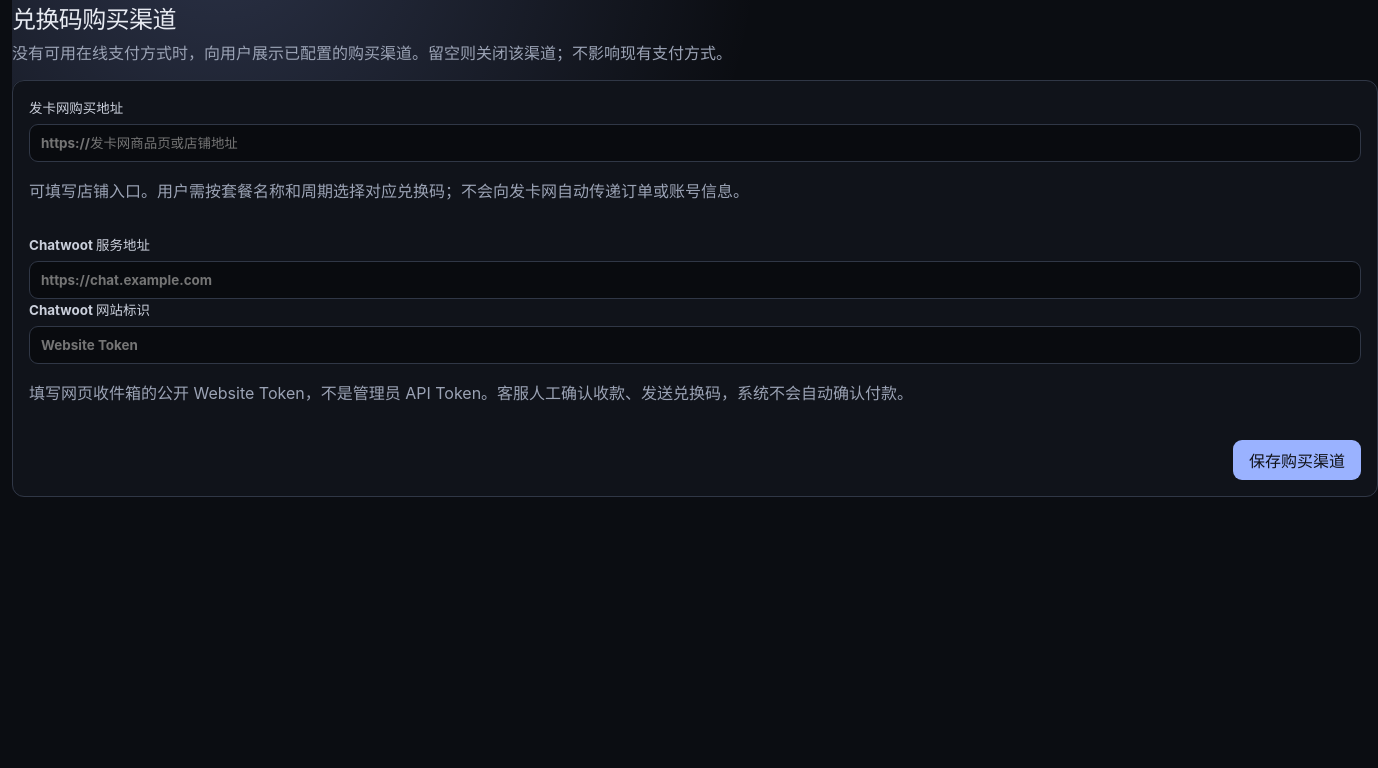
Test: saves channel settings with revision and preserves values after a conflict
Type "https://cards.example.test/shop" into the field labelled "发卡网购买地址". click: (695, 143)
box: [29,124,1361,162]
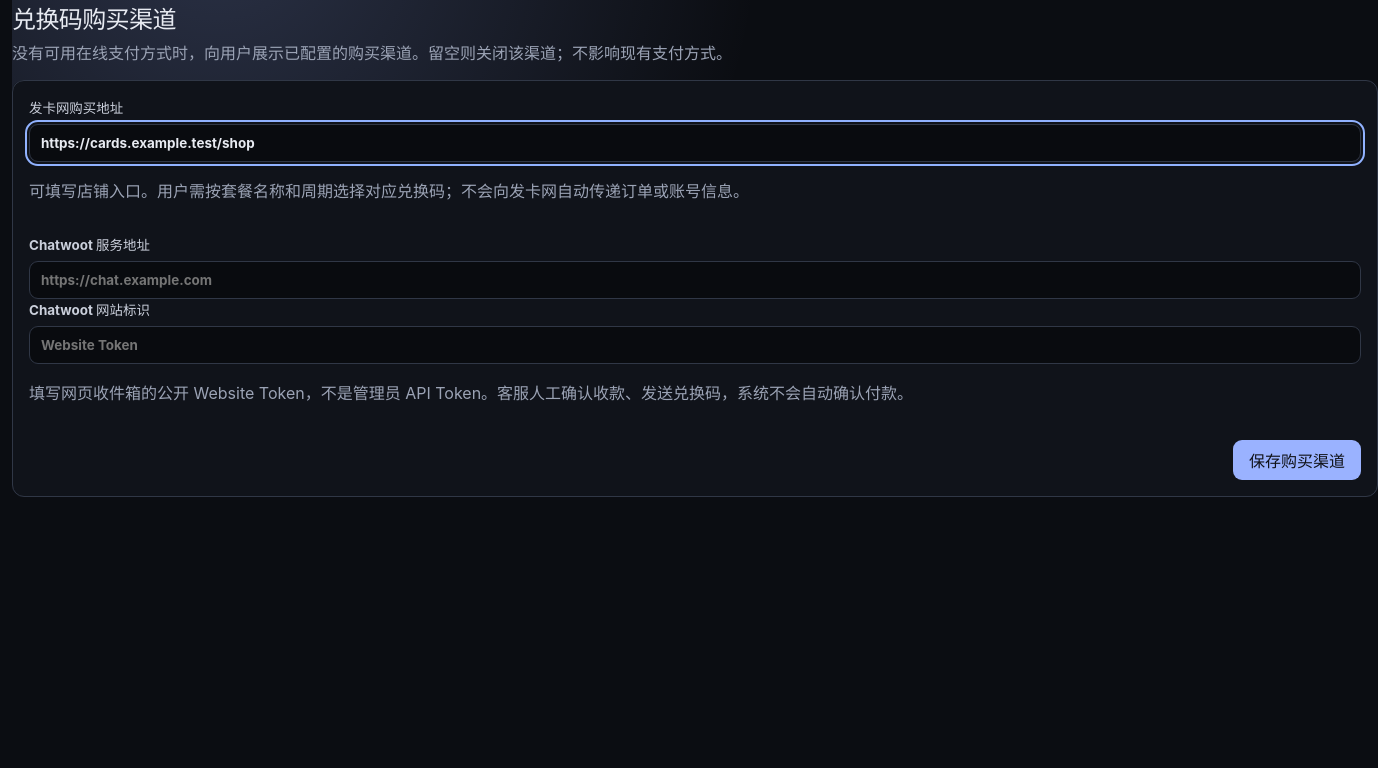
Click the button "保存购买渠道". click: (1297, 460)
box: [1233,440,1361,480]
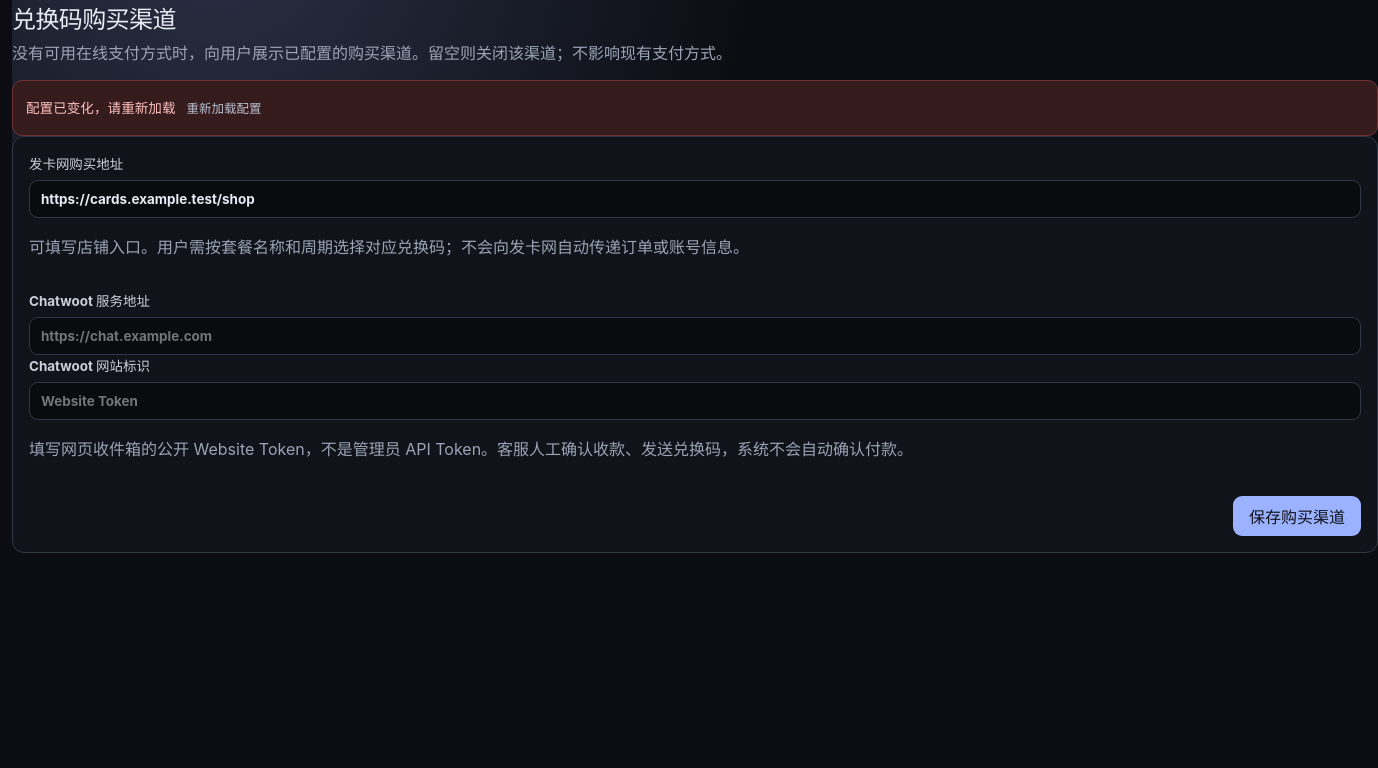
Check: the message shows "配置已变化", box [26,100,176,116]
Click the button "保存购买渠道". click: (1297, 516)
box: [1233,496,1361,536]
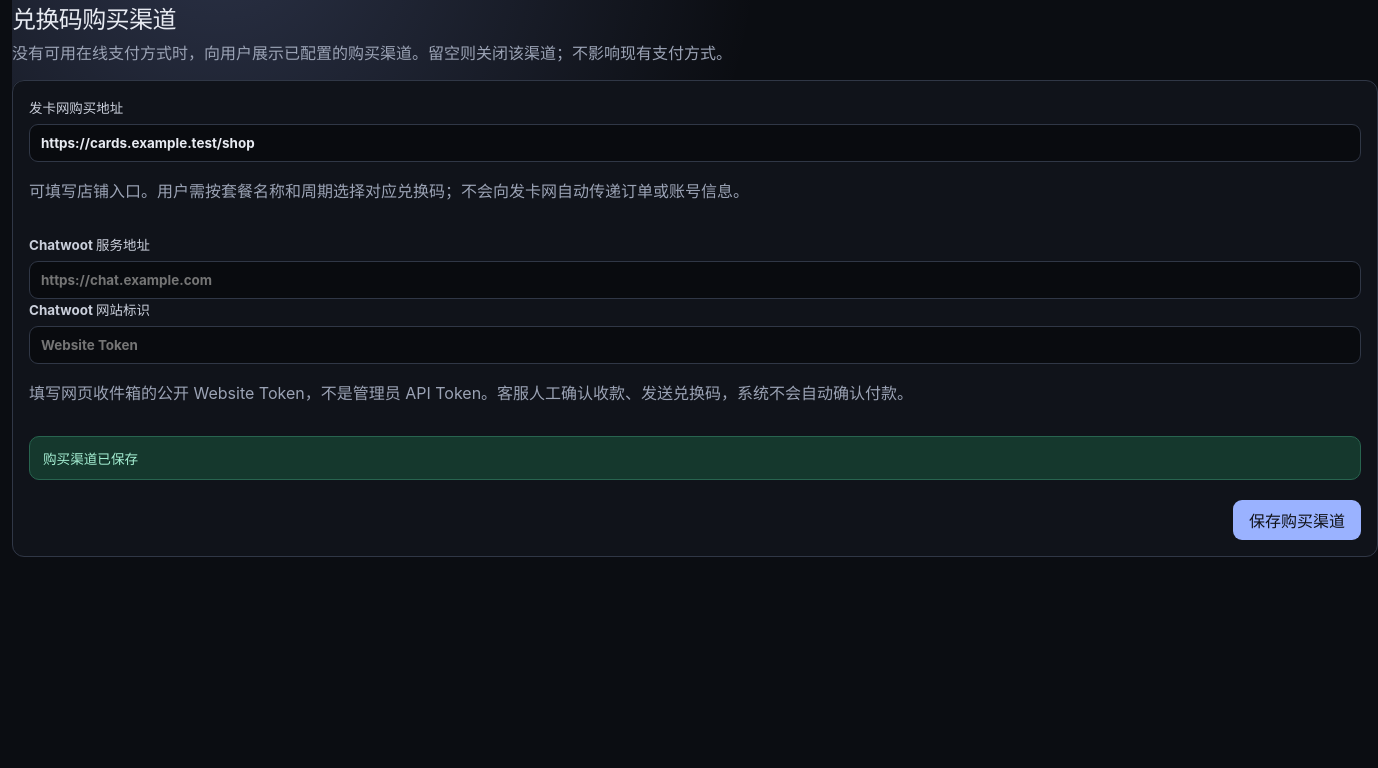
Check: the message reads "购买渠道已保存", box [43,451,138,467]
